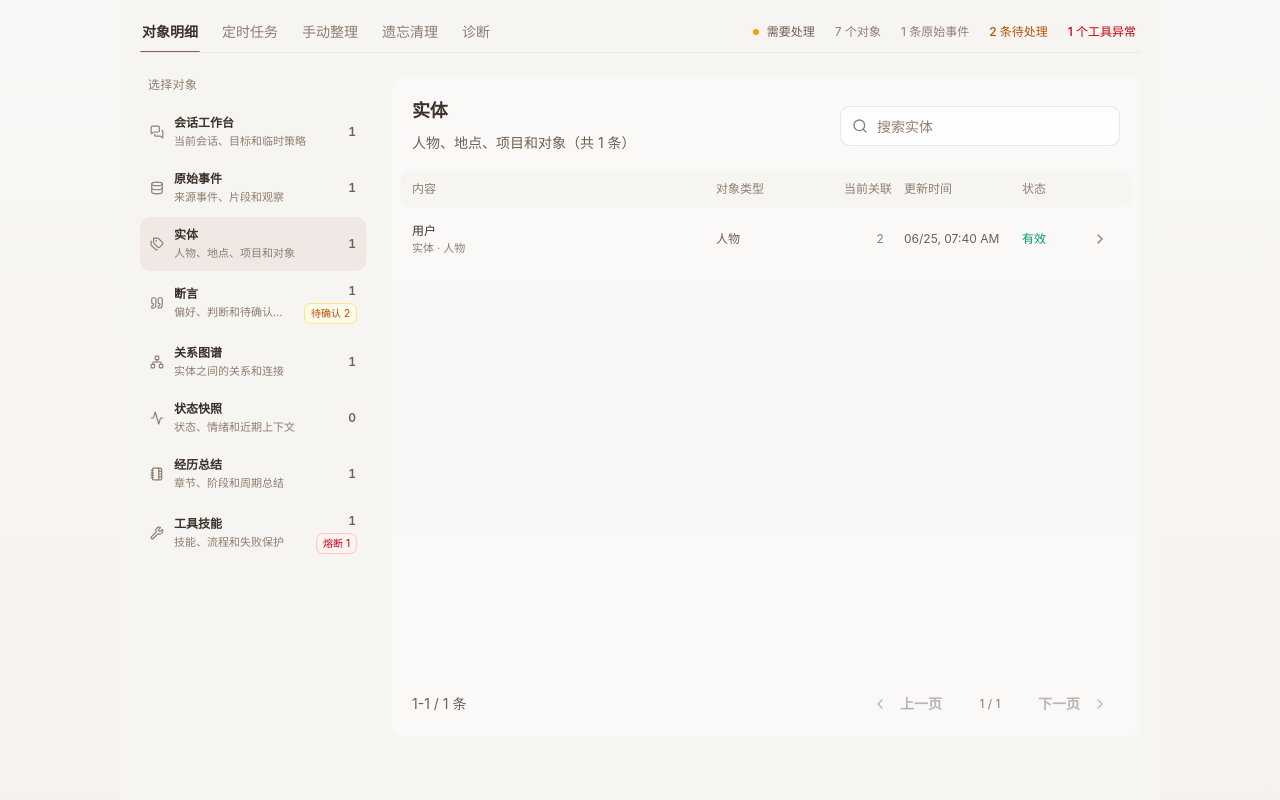
Test case: MemoryGovernancePage › opens record details in a right-side drawer when a row is selected
Click the button with aria-label "打开记录 用户". click: click(439, 248)
box: [400,211,1132,268]
(page scrolled)
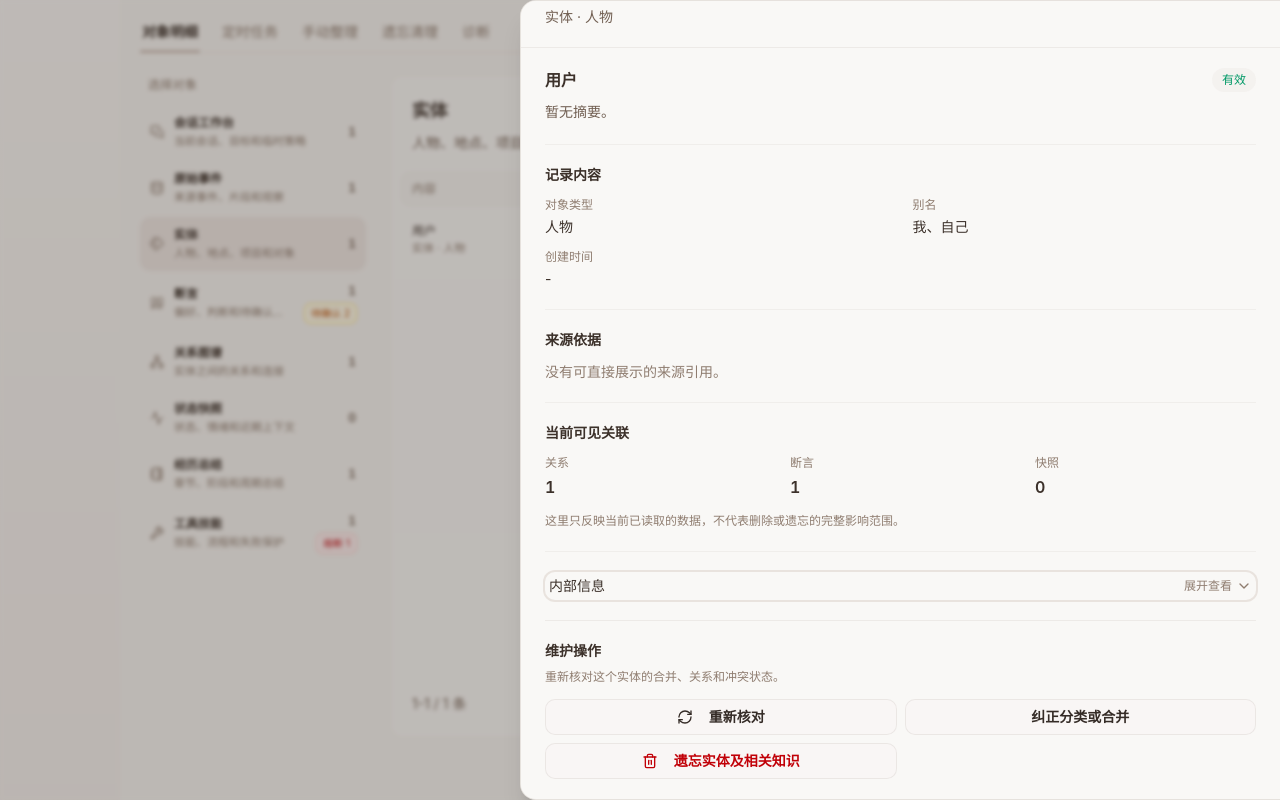
Expected: the heading "用户" is shown, [545,70,577,90]
Expected: the text "别名" is shown, [912,197,936,212]
Expected: the text "我、自己" is shown, [912,218,968,235]
